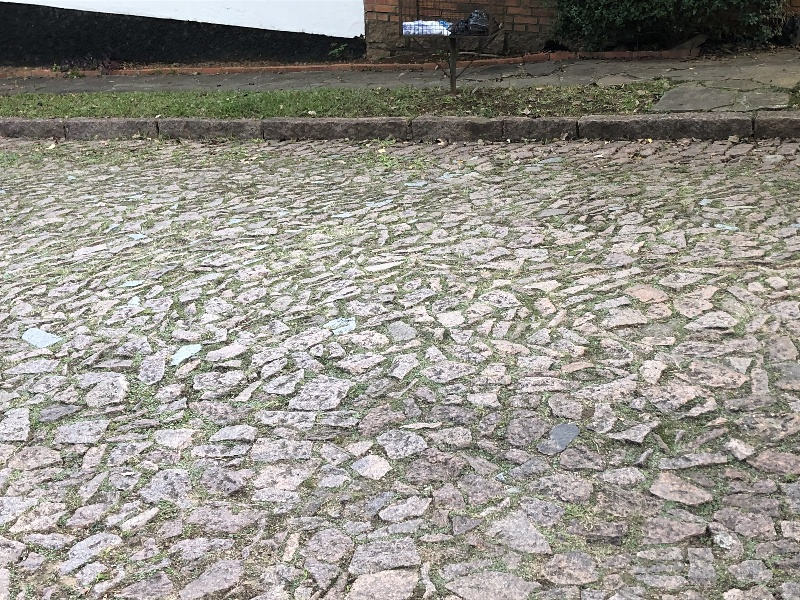v87: (5, 89, 790, 163)
